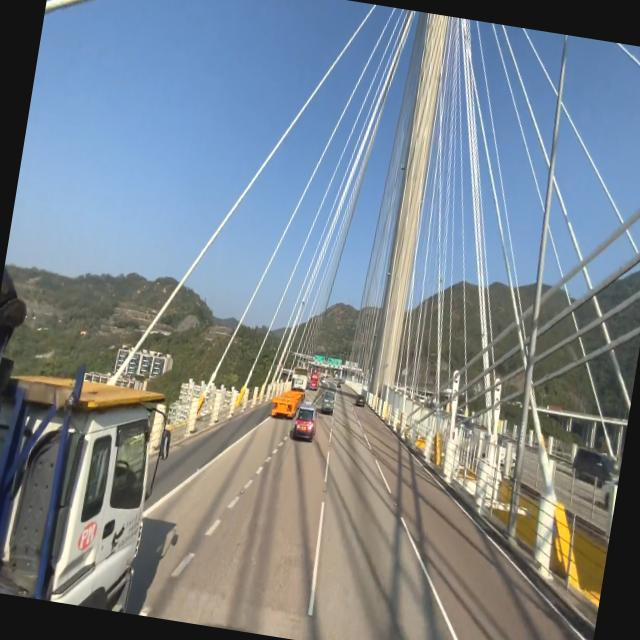Vehicle: (268, 358, 310, 427), (290, 398, 320, 448), (319, 386, 339, 416)
